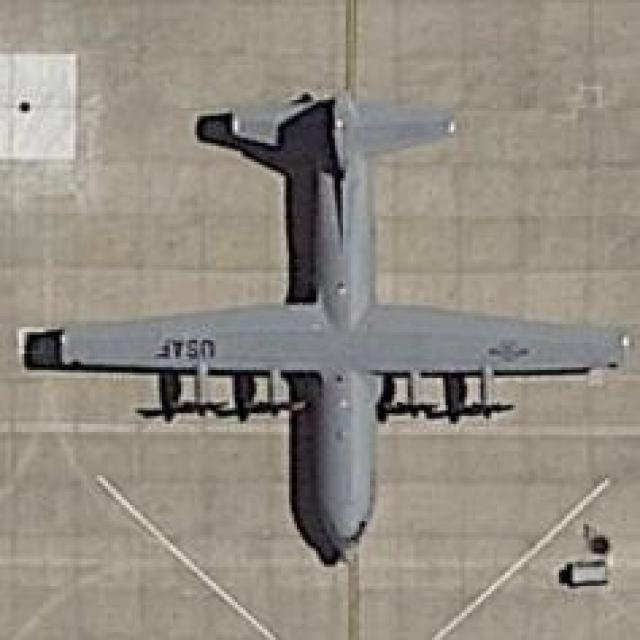C-130_TopDown: (23, 83, 632, 571)
